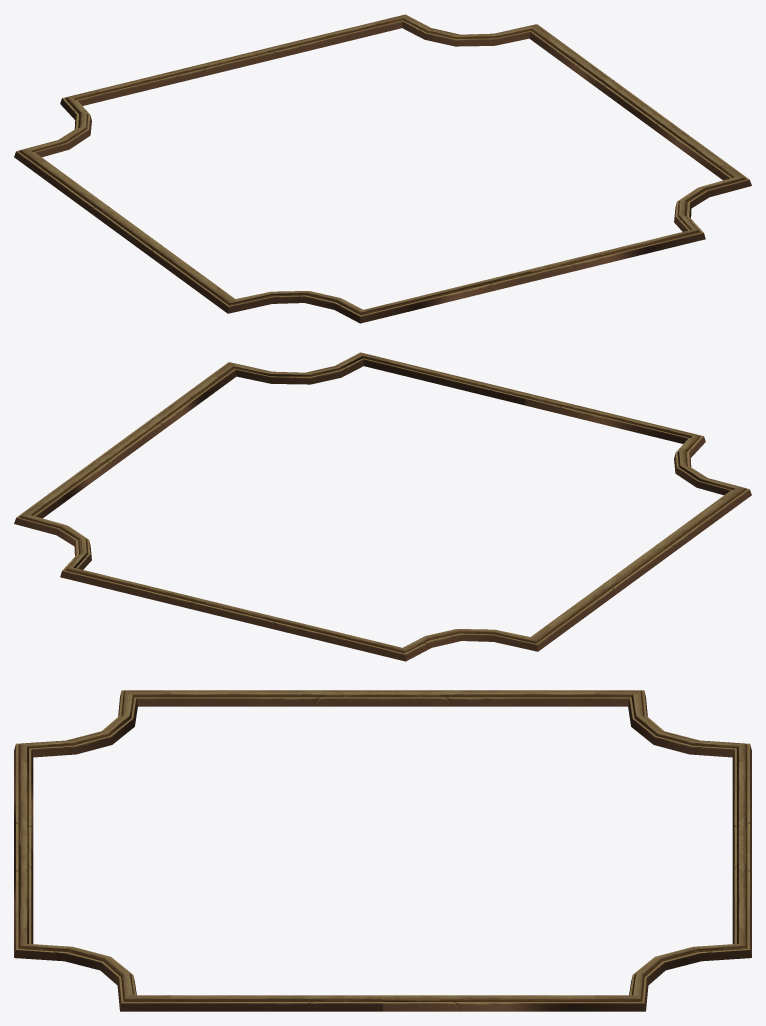
Rendered from bs_pveyabian_02.FBX.
3 renders of one model, top to bottom at view 1: azimuth 30°, elevation 25°; view 2: azimuth 150°, elevation 25°; view 3: azimuth 270°, elevation 25°, orthographic. The views are drawn at different scales.
Visible parts, largest first — view 1: bs_pveyabian_02; view 2: bs_pveyabian_02; view 3: bs_pveyabian_02.
Part boxes in pixels (left/top/right/bottom): bs_pveyabian_02: left=14, top=14, right=751, bottom=323; bs_pveyabian_02: left=14, top=352, right=751, bottom=661; bs_pveyabian_02: left=14, top=690, right=751, bottom=1011.
Size of the model in its own units: 2280 by 32.28 by 2261.
